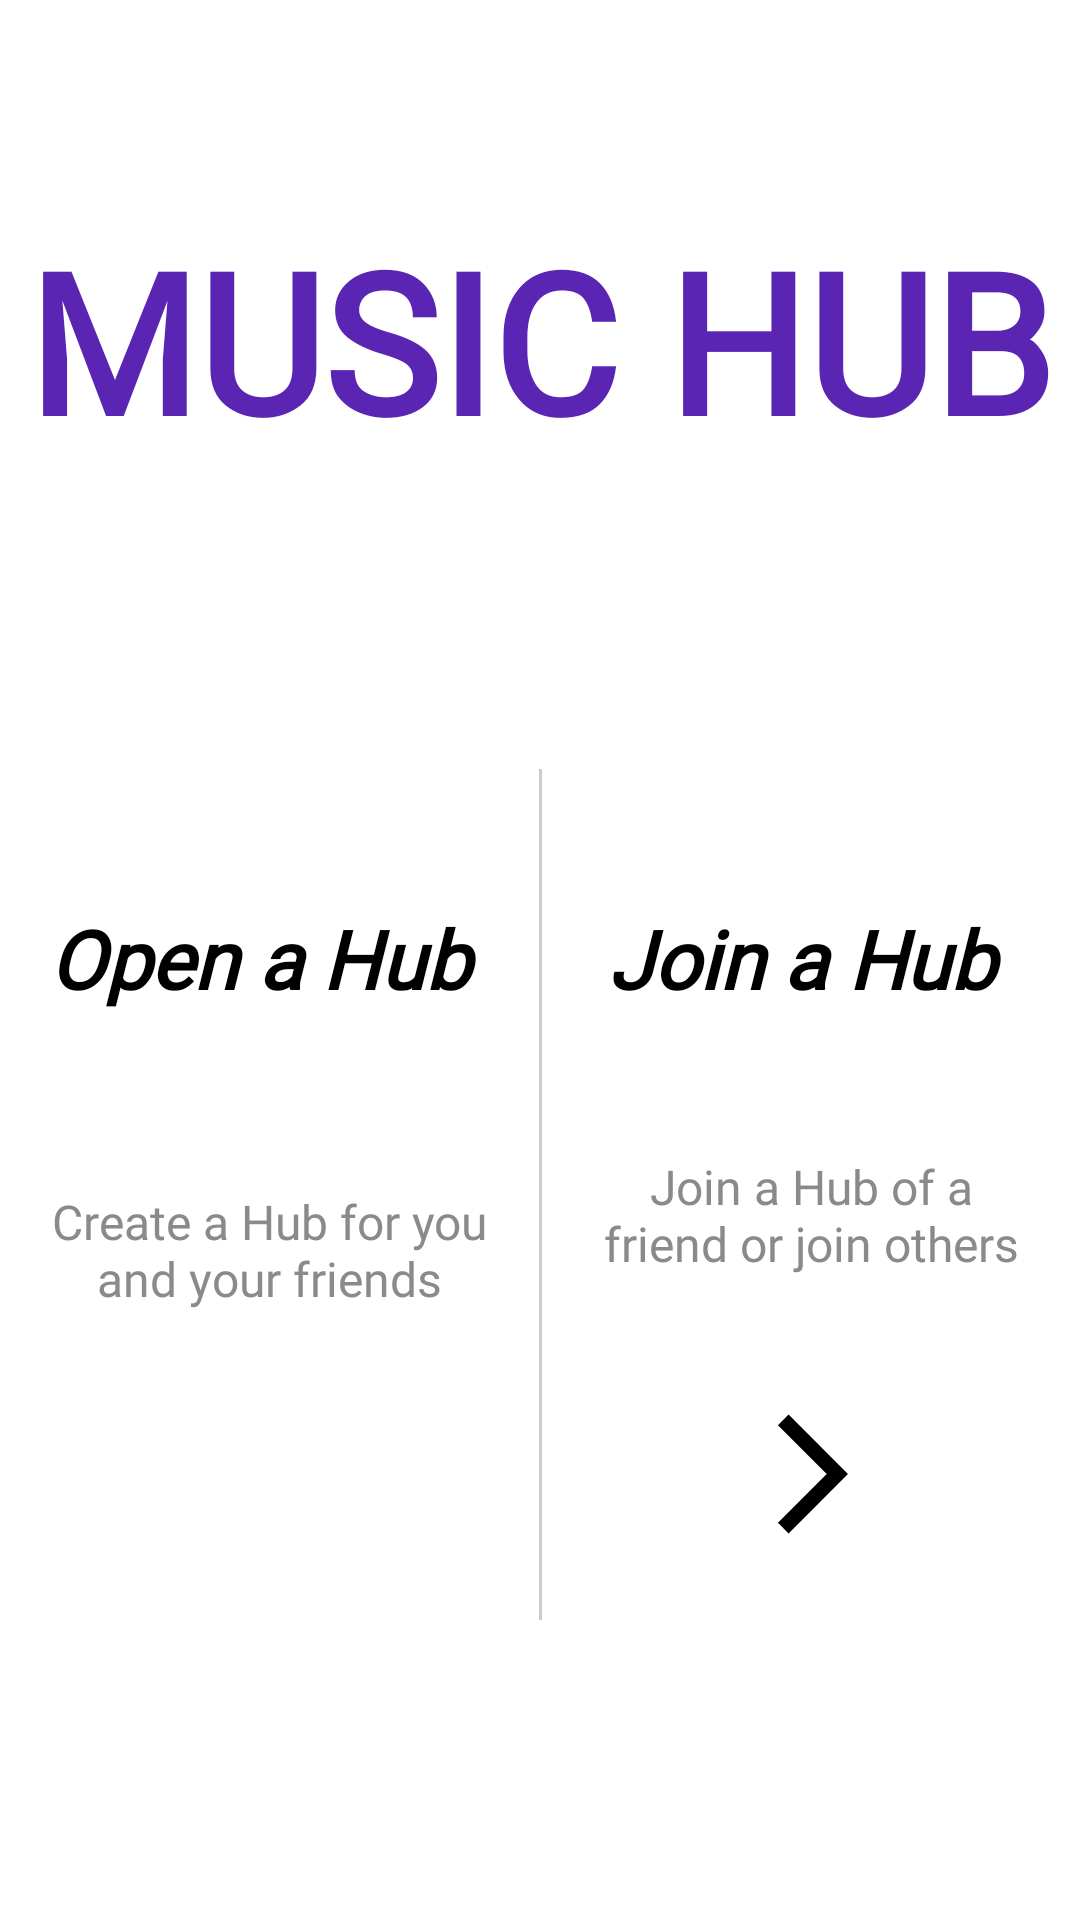

Screen size 1080px×1920px. Icon name, then its box in pixels as (x1, y1, x2, y2):
arrow forward: (778, 1414, 848, 1534)
